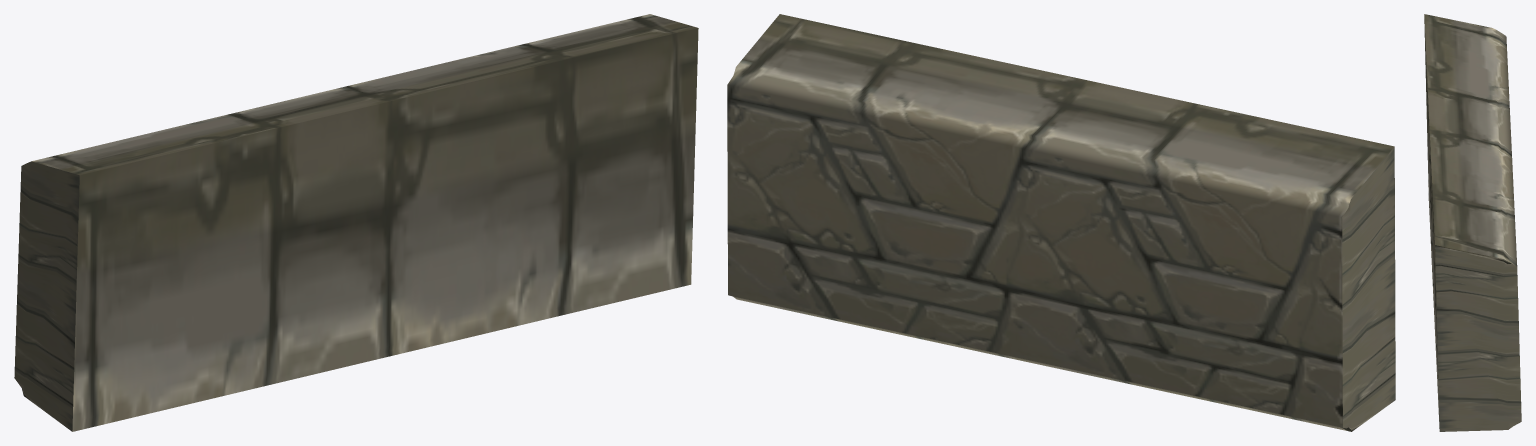
File: mural bottom.fbx
3 views of the same model, side by side, from view 1: azimuth 30°, elevation 25°; view 2: azimuth 150°, elevation 25°; view 3: azimuth 270°, elevation 25° (orthographic). The views are drawn at different scales.
Visible parts, largest first — view 1: pCube8; view 2: pCube8; view 3: pCube8.
Boxes of the visible parts, x1=… form: pCube8: x1=14, y1=14, x2=698, y2=431; pCube8: x1=727, y1=14, x2=1395, y2=431; pCube8: x1=1424, y1=14, x2=1521, y2=431.
Size of the model in its own units: 49.63 by 20.17 by 9.08.
